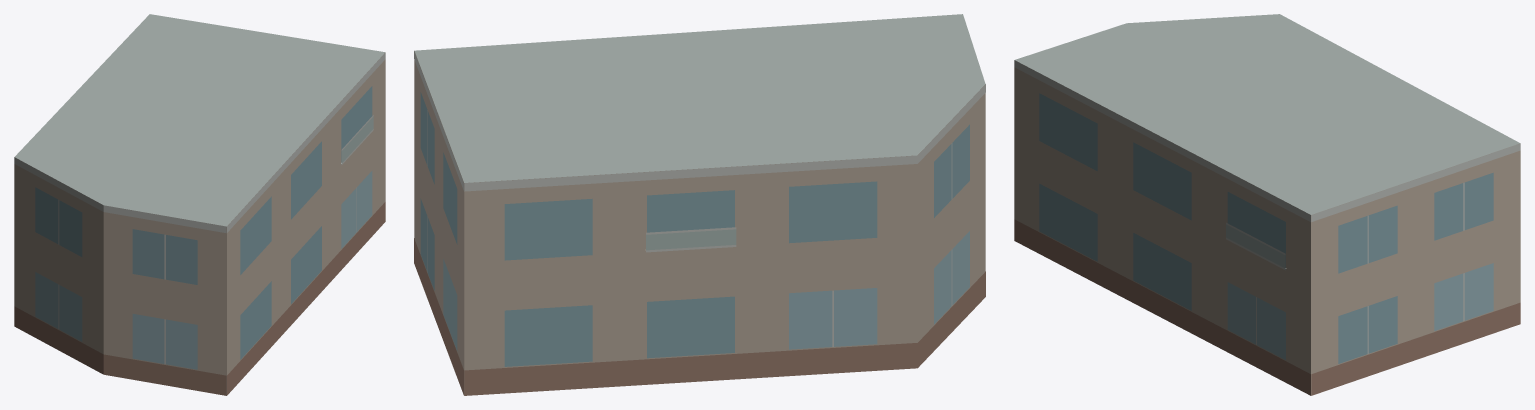
File: survey-upis-32584876.glb
3 renders of one model, left to right at view 1: azimuth 30°, elevation 25°; view 2: azimuth 150°, elevation 25°; view 3: azimuth 270°, elevation 25°, orthographic. The views are drawn at different scales.
Parts seen in each view (by area): view 1: survey-upis-32584876.tmp; view 2: survey-upis-32584876.tmp; view 3: survey-upis-32584876.tmp.
Boxes of the visible parts, x1,y1,x2,y2 form: survey-upis-32584876.tmp: (14, 14, 385, 395); survey-upis-32584876.tmp: (414, 14, 985, 395); survey-upis-32584876.tmp: (1014, 14, 1520, 395).
Bounding box in the file's own units: 14.55 × 6.1 × 15.48.
